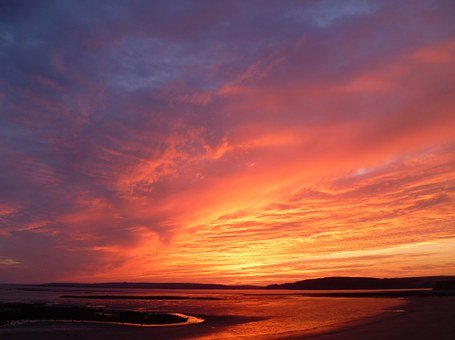sea: (9, 277, 450, 340)
sky: (3, 3, 455, 274)
